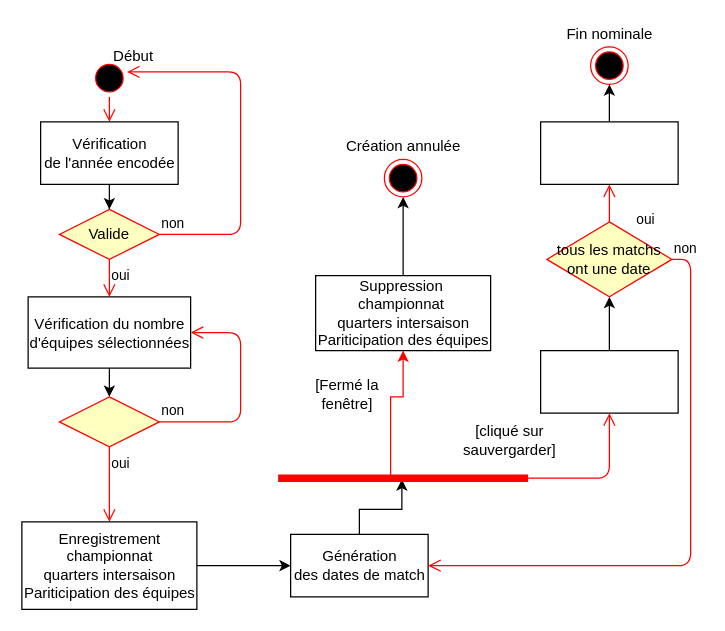
Image size: 725x631. Some labels were removed from this diagram. Here are the shapes that lost their labels. From the top down, the centre of each, then its label:
At point (608, 152): "Enregistrement des matchs".
At point (608, 381): "Vérification des dates".
At point (108, 421): "min 2".
